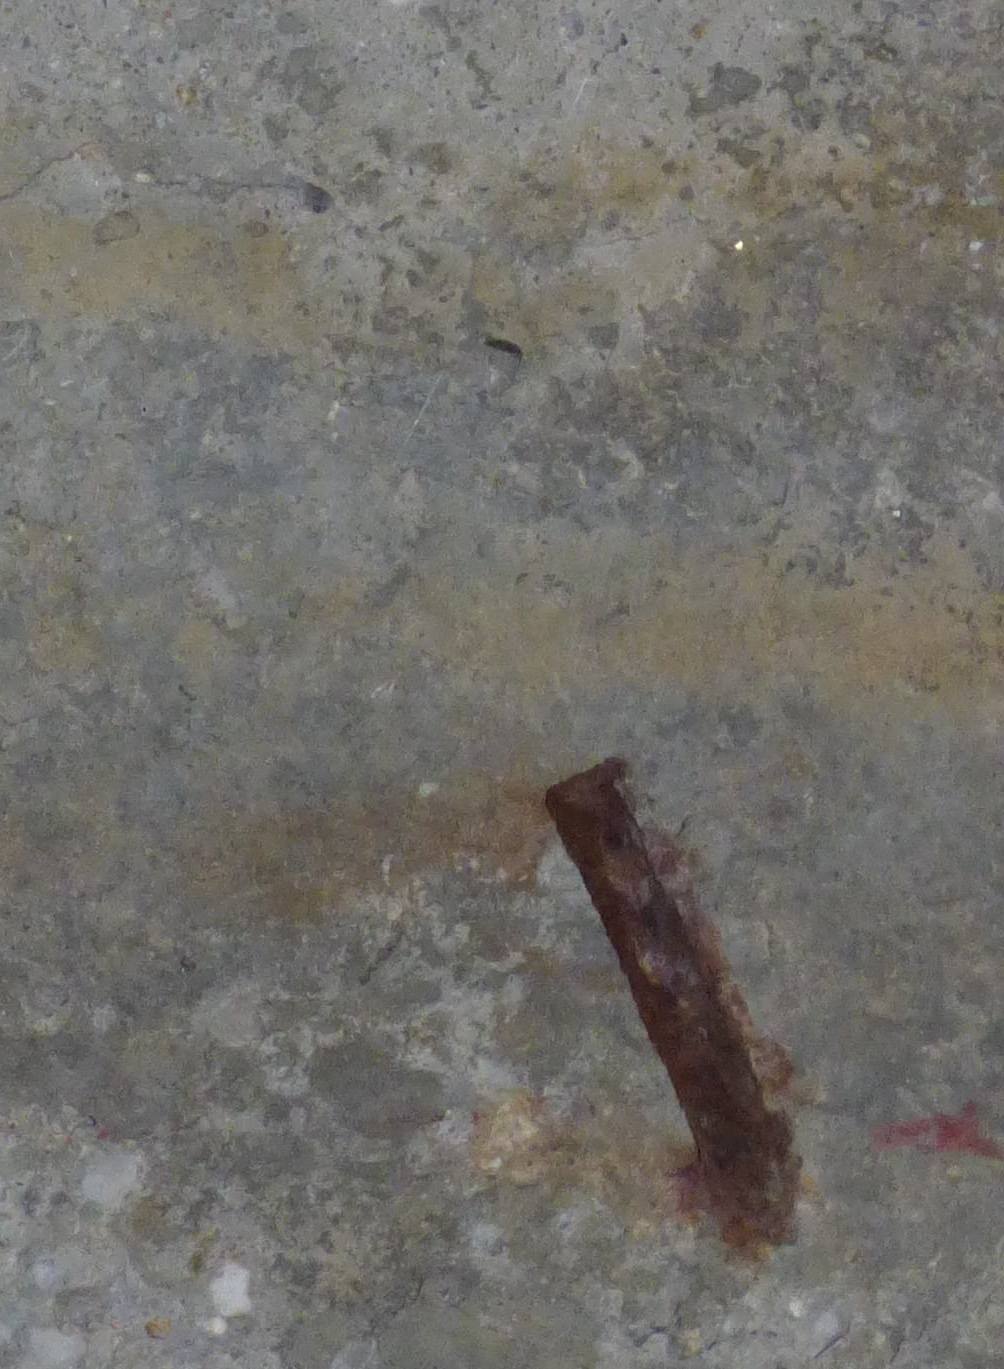Exposed reinforcement: (545, 757, 779, 1211)
